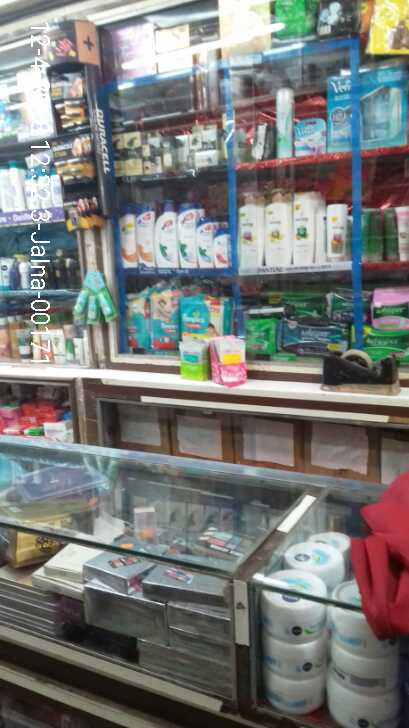venus: (330, 67, 408, 151), (298, 121, 328, 152)
